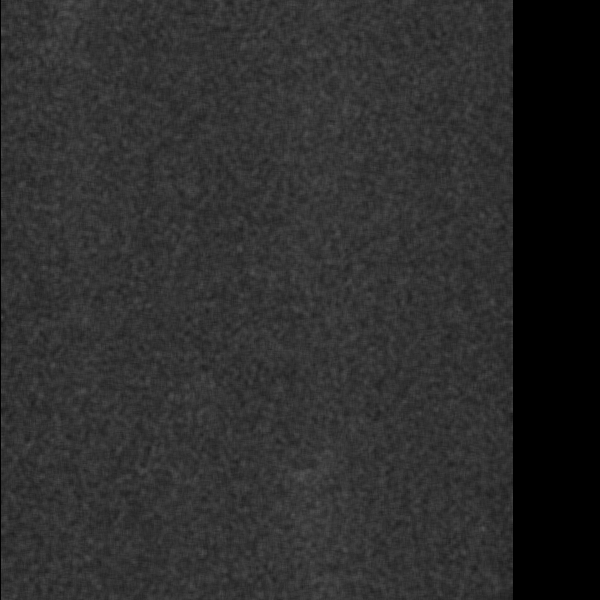spark: (287, 463, 317, 497)
